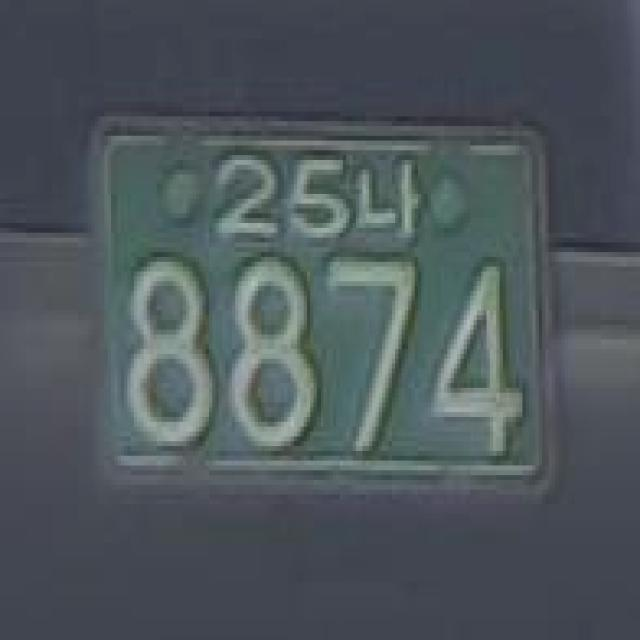illegal_plate: (82, 99, 568, 518)
